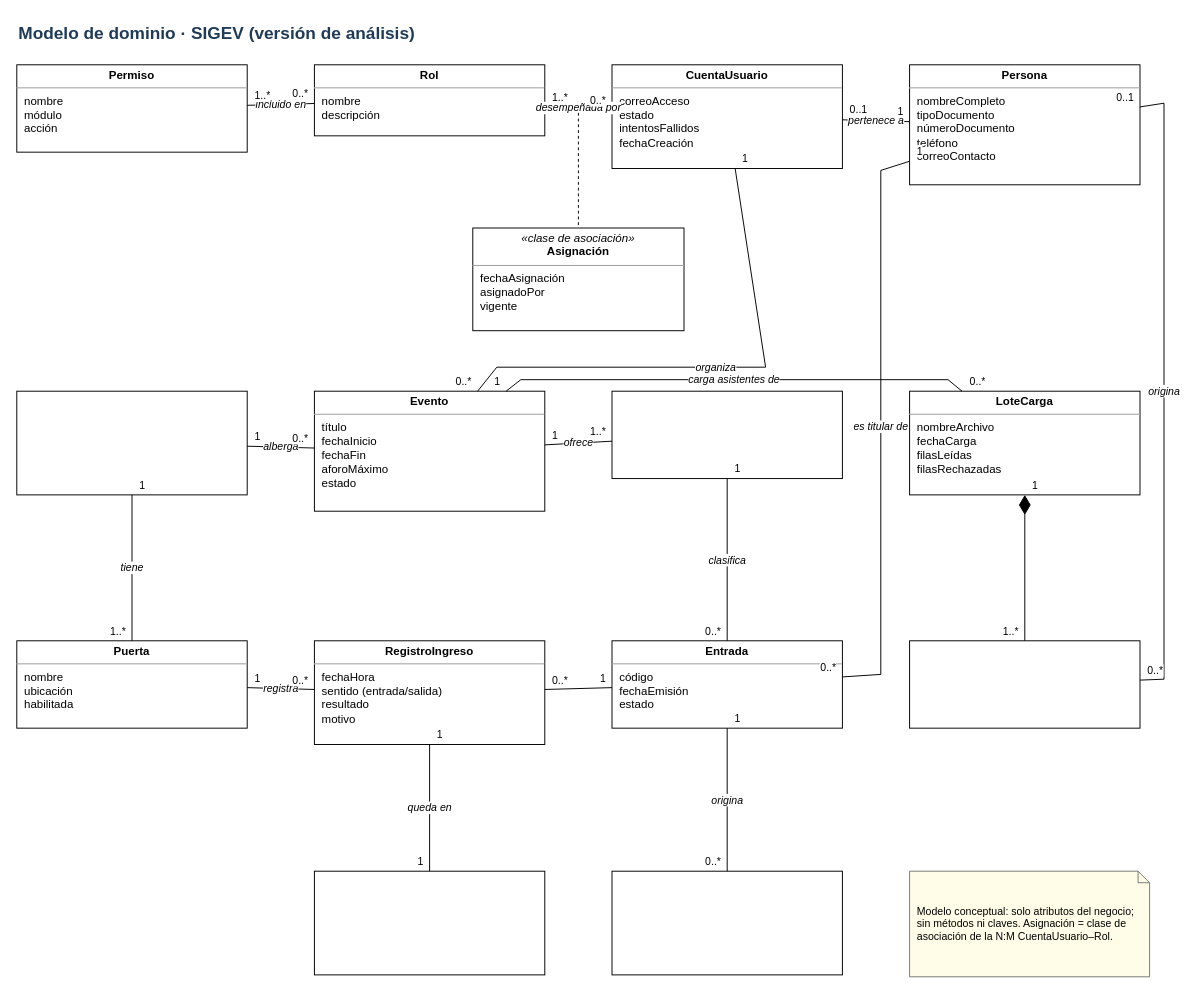
Some shapes in this 1196 by 994 pixel diagram are drawn without their labels. Here are the shapes that lost their labels. From the top down, the centre of each, then its label:
[131,442]: Recinto nombre dirección ciudad capacidadFísica
[726,434]: TipoEntrada nombre cupo precio
[1024,684]: LíneaCarga númeroFila resultado mensajeError
[429,922]: EventoAuditoría fechaHora acción resultado huellaIntegridad
[726,922]: Notificación canal (correo/SMS) asunto fechaEnvío estado
